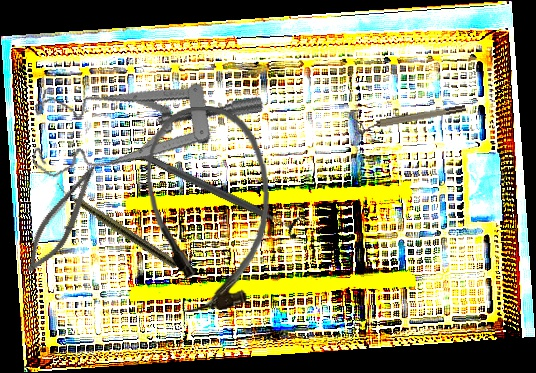Cannula: (141, 102, 277, 315)
Fixation Ring: (135, 142, 306, 242), (356, 102, 467, 136)
Handpiece: (52, 181, 180, 270)
Micro Scissor: (18, 155, 105, 280)
Speculum: (19, 44, 267, 222)
